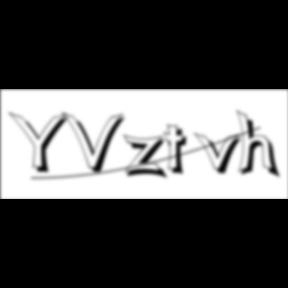V: (62, 110, 130, 176)
Y: (9, 110, 76, 176)
h: (236, 108, 284, 182)
t: (164, 124, 194, 179)
v: (194, 131, 248, 177)
z: (124, 134, 172, 182)
